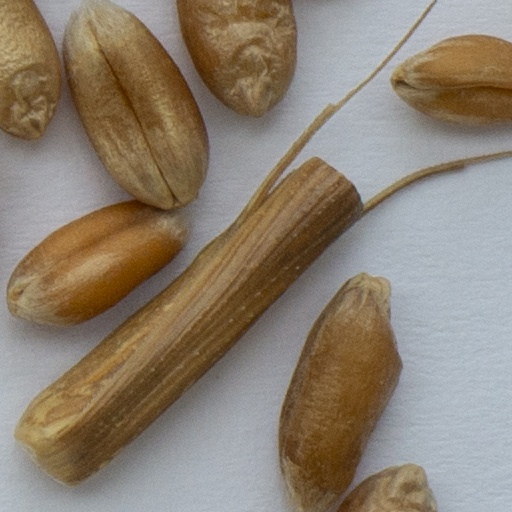Peel-poly: (15, 0, 511, 488)
